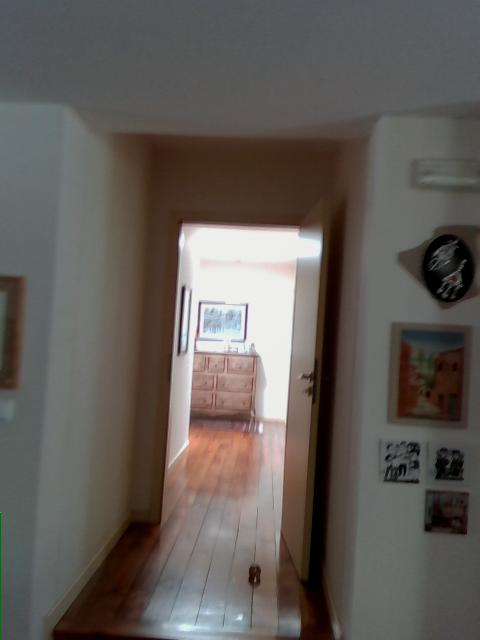open_door: (151, 210, 310, 537)
